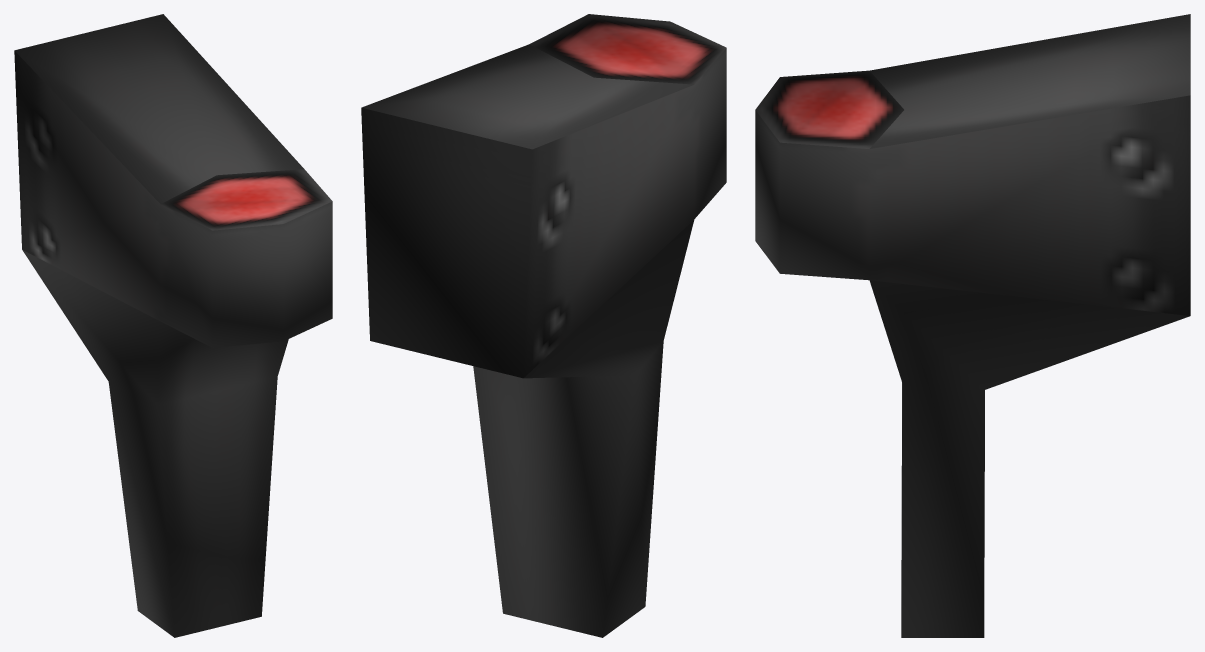
The model's file is Handgun02_RedDot2.fbx.
The picture shows the model from 3 angles, left to right: view 1: azimuth 30°, elevation 25°; view 2: azimuth 150°, elevation 25°; view 3: azimuth 270°, elevation 25°; orthographic projection. The views are drawn at different scales.
Parts seen in each view (by area): view 1: Handgun02_RedDot2.X_.0002; view 2: Handgun02_RedDot2.X_.0002; view 3: Handgun02_RedDot2.X_.0002.
Part boxes in pixels (x1,y1,x2,y2): Handgun02_RedDot2.X_.0002: (14, 14, 332, 637); Handgun02_RedDot2.X_.0002: (361, 14, 726, 637); Handgun02_RedDot2.X_.0002: (755, 14, 1190, 637).
Size of the model in its own units: 0.0274 by 0.0879 by 0.062.
